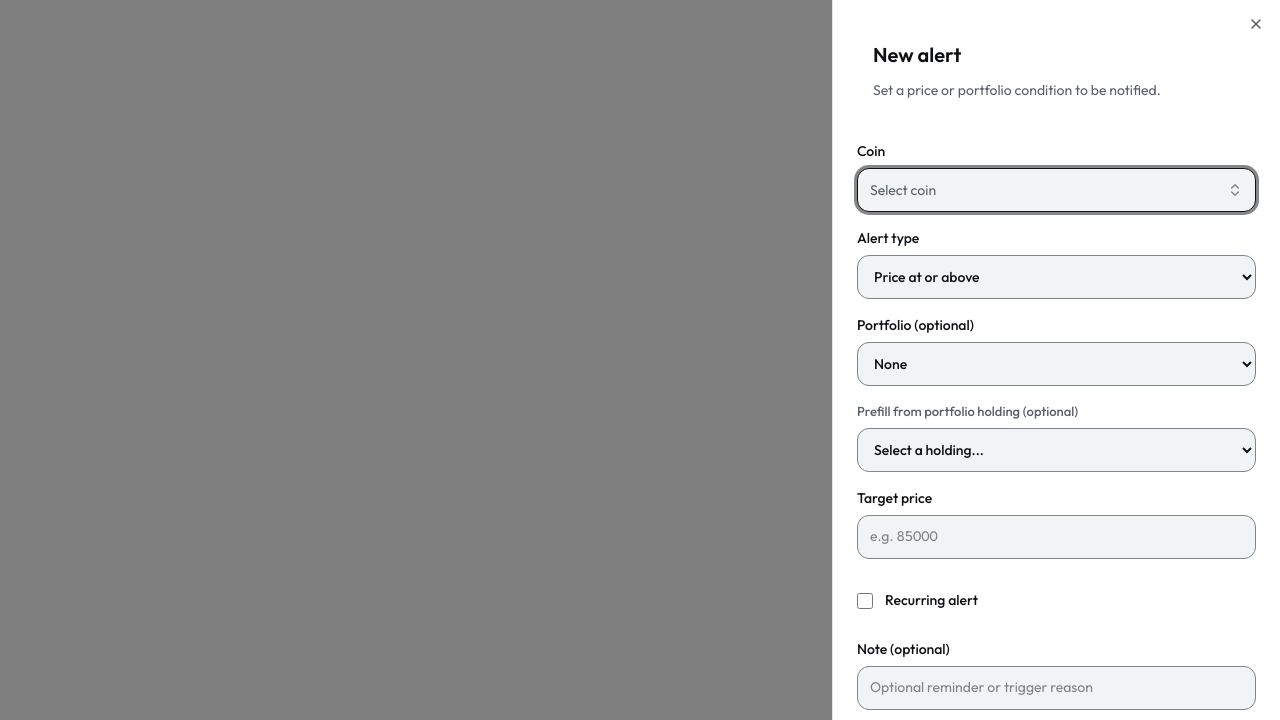
Scenario: AlertSheet › validates portfolio requirement for portfolio alert types
Select "Portfolio value at or above" in the dropdown labelled "Alert type" at (1056, 277), box [857,255,1256,299]
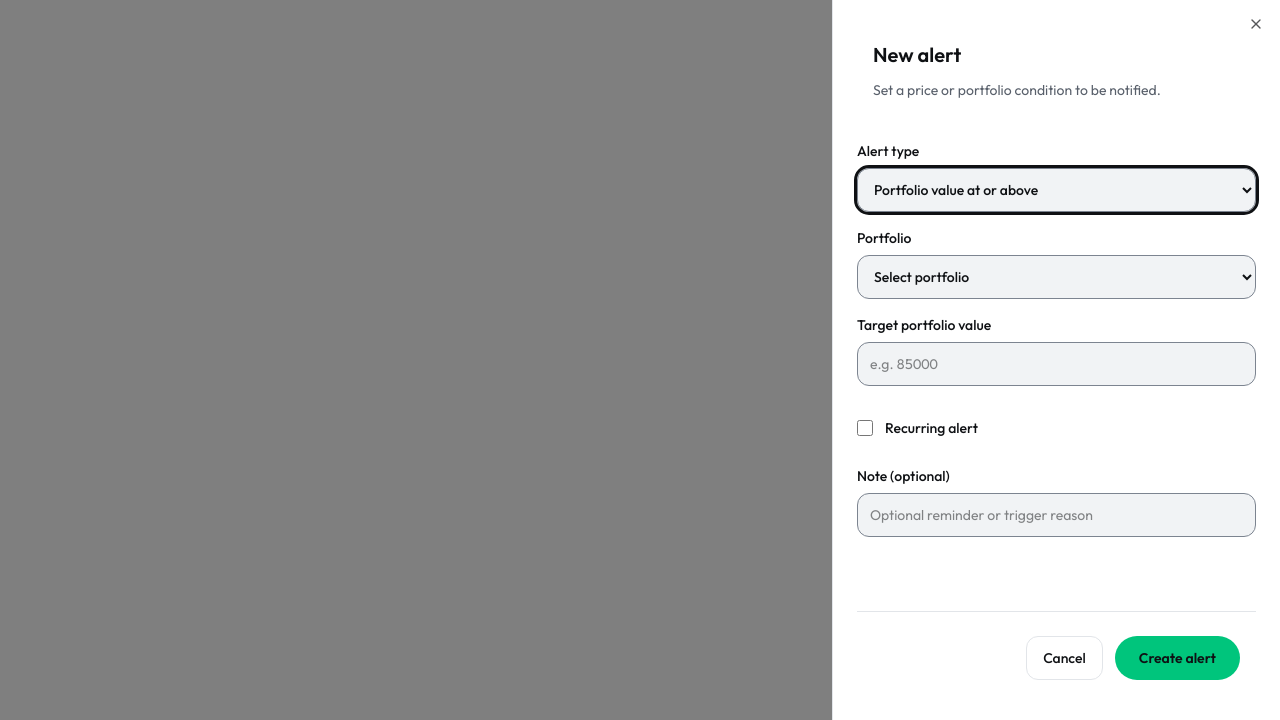
Type "50000" into the number field labelled "Target portfolio value".
click(1056, 364); type("50000")  # box [857,342,1256,386]
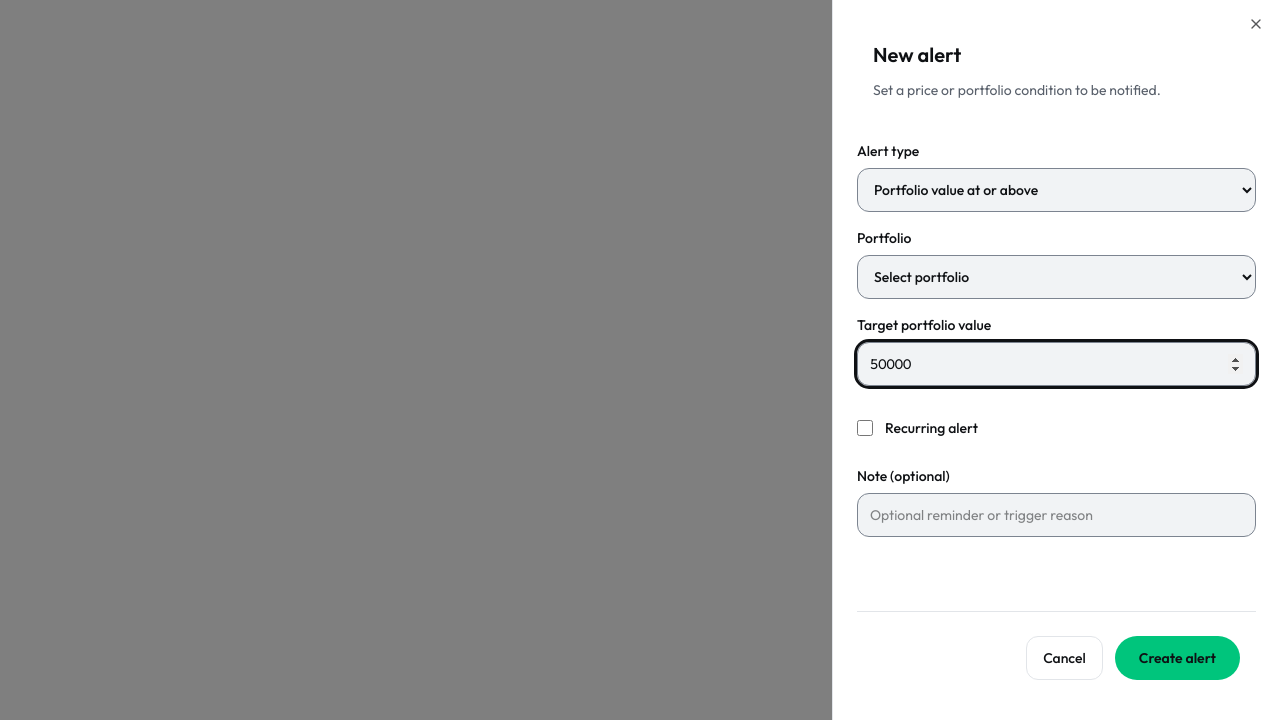
Click the button "Create alert".
click(1177, 658)  # box [1115,636,1240,680]
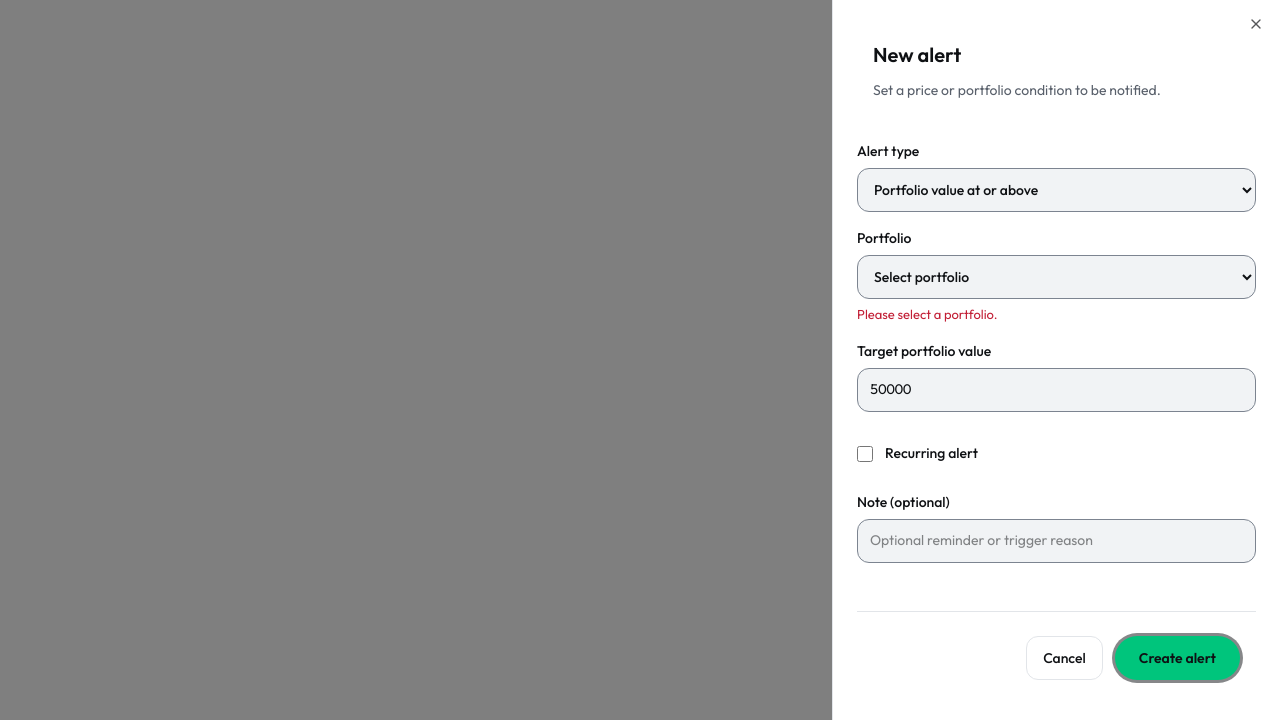
expect the text "Please select a portfolio." is shown: met, box [857,306,998,322]
